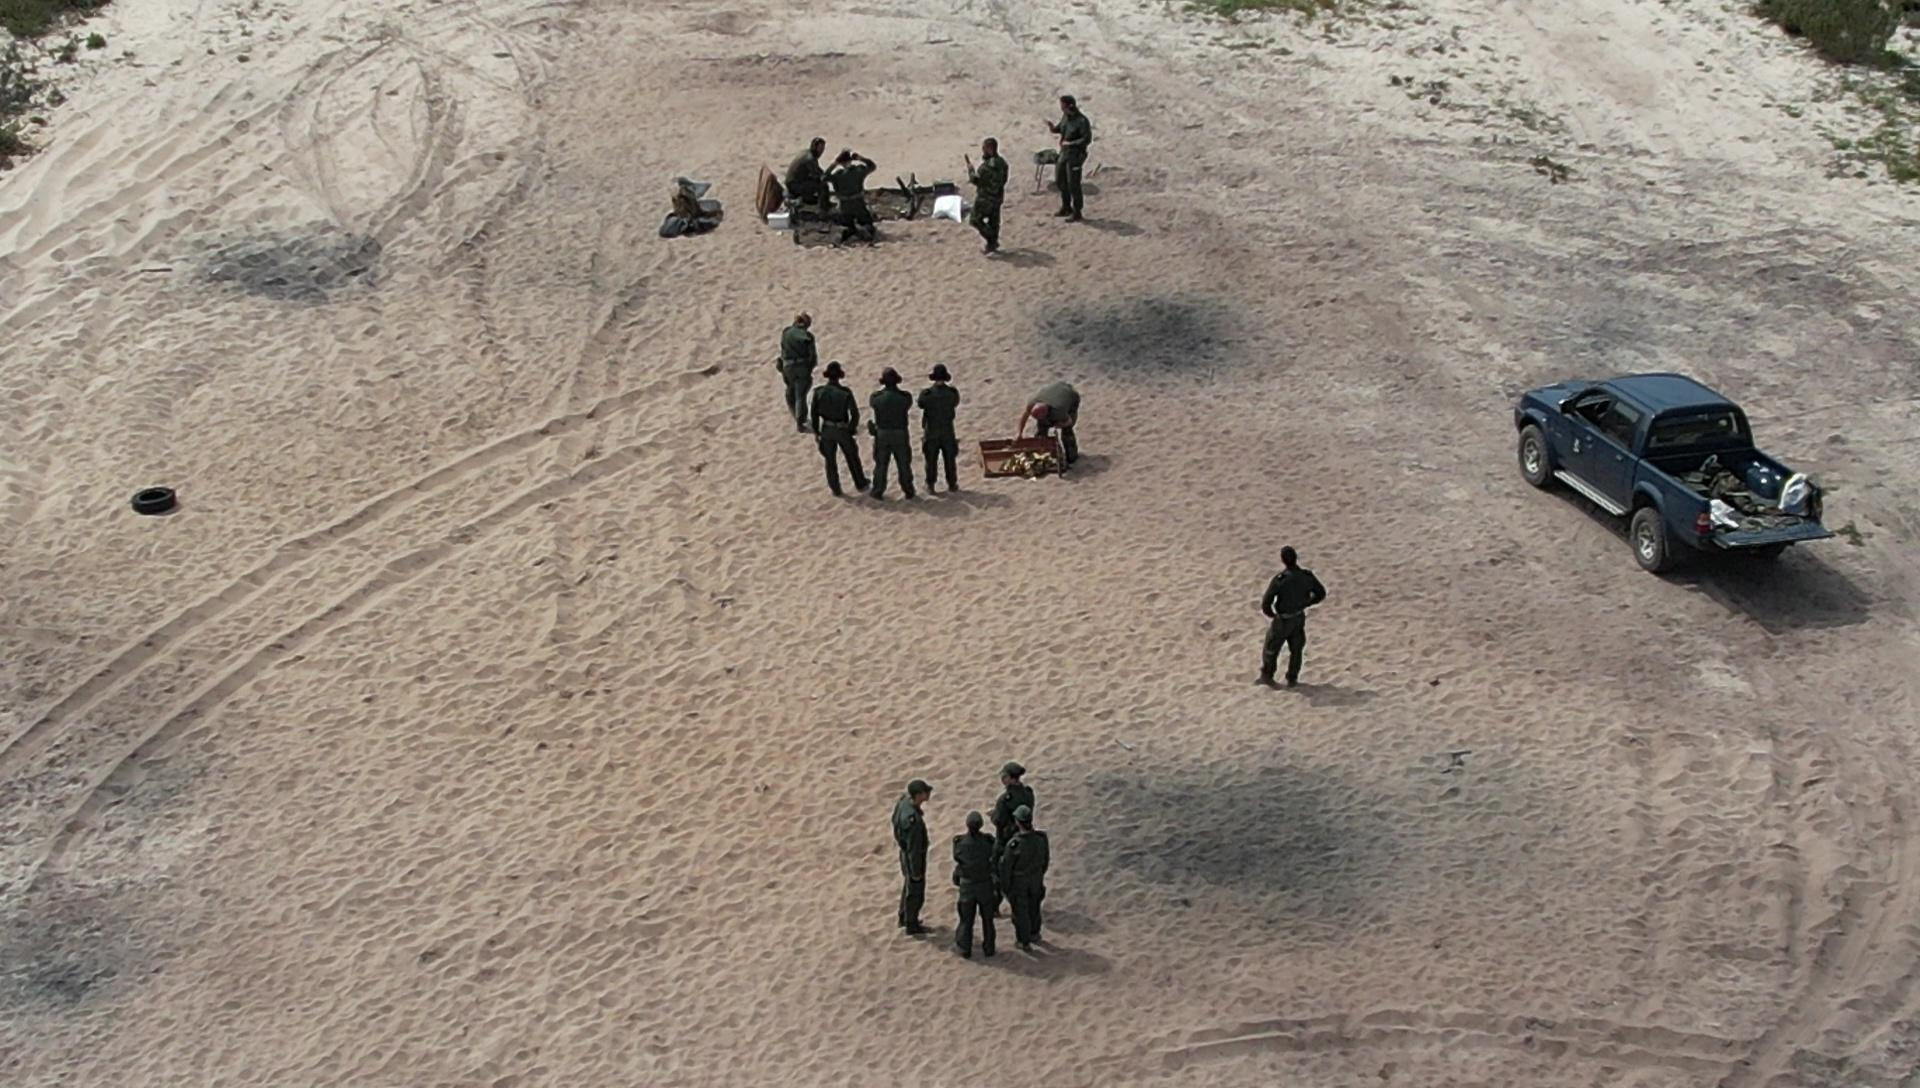Soldier: (967, 794, 1055, 967), (1250, 534, 1331, 715), (802, 352, 884, 520), (881, 756, 947, 961), (955, 808, 1033, 968), (1035, 94, 1112, 243), (862, 359, 924, 524), (1013, 377, 1096, 495), (1001, 789, 1052, 972), (775, 303, 832, 451), (914, 357, 968, 508), (819, 140, 884, 261), (967, 133, 1015, 266), (789, 119, 843, 231)
